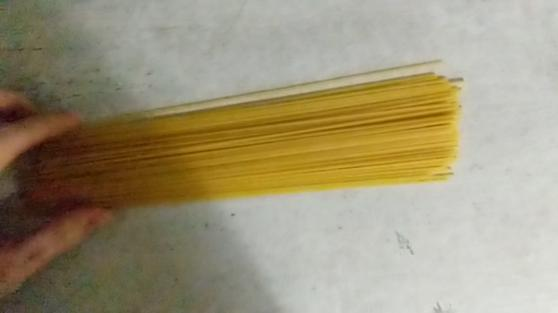spaghetti: (24, 49, 474, 239)
